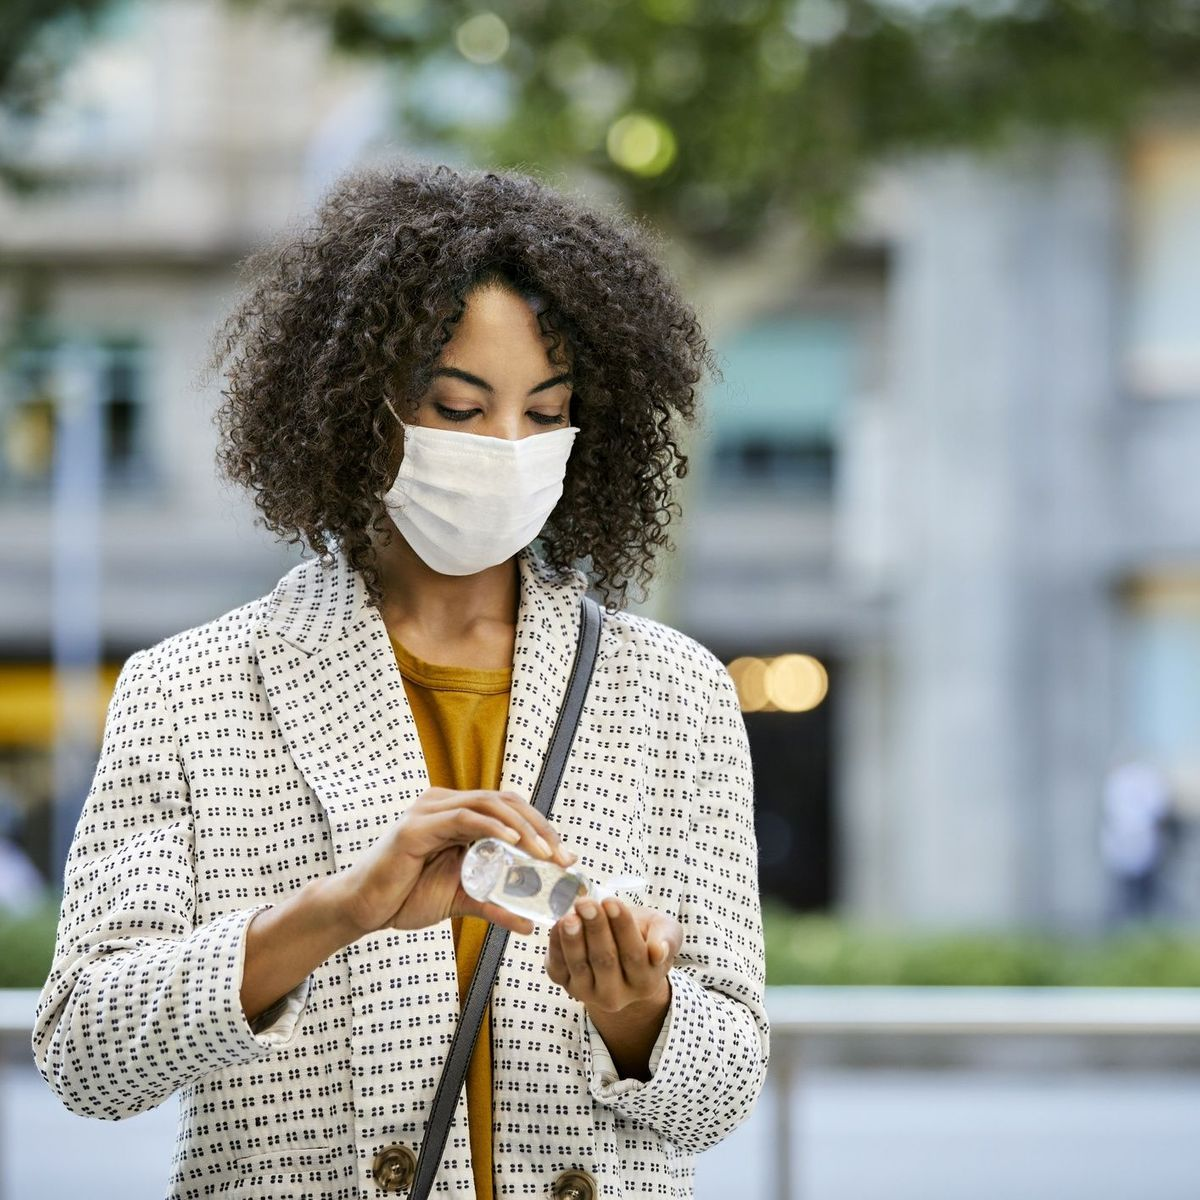with_mask: (359, 298, 582, 574)
